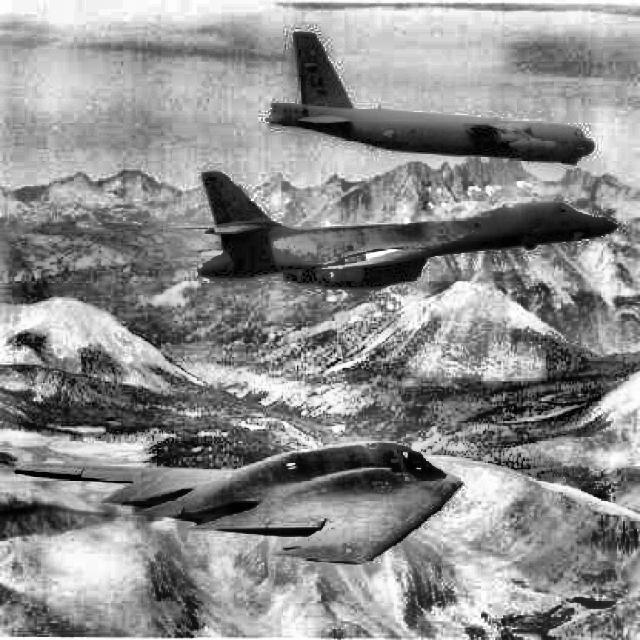B1: (167, 171, 619, 289)
B2: (13, 441, 464, 565)
B52: (266, 33, 596, 165)
